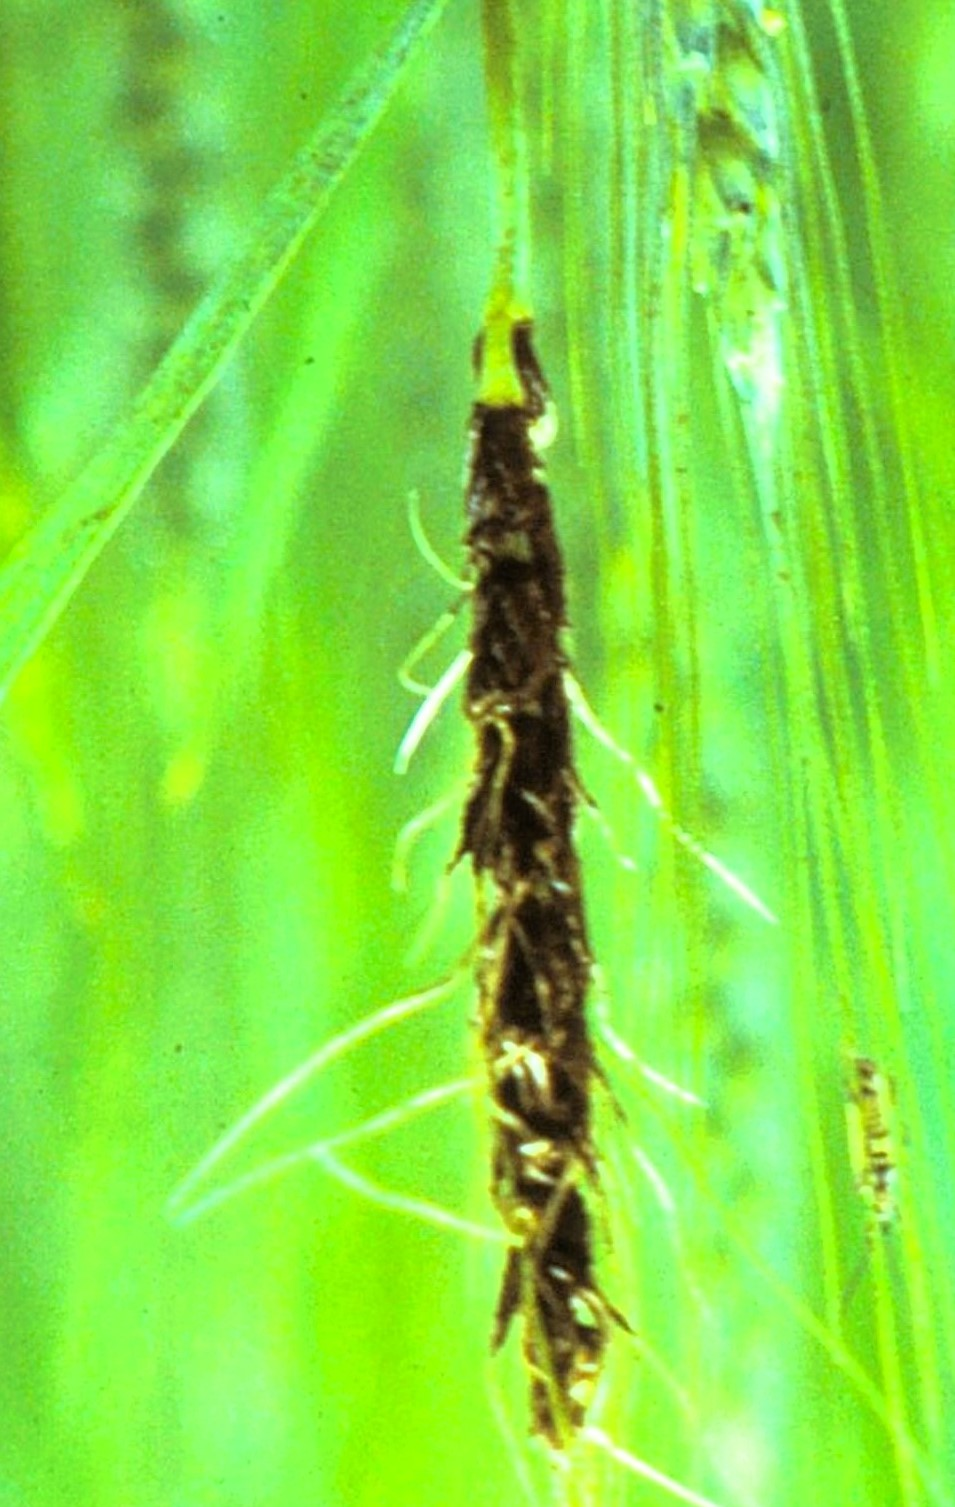Wheat Loose Smut: (403, 436, 674, 1400)
